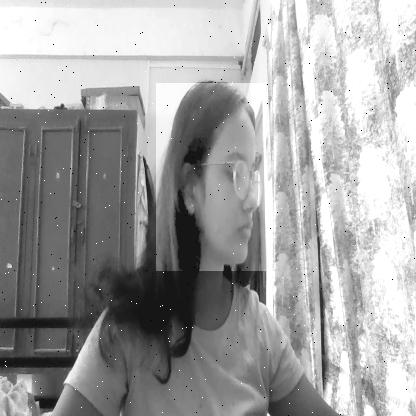Distracted: (156, 83, 266, 271)
